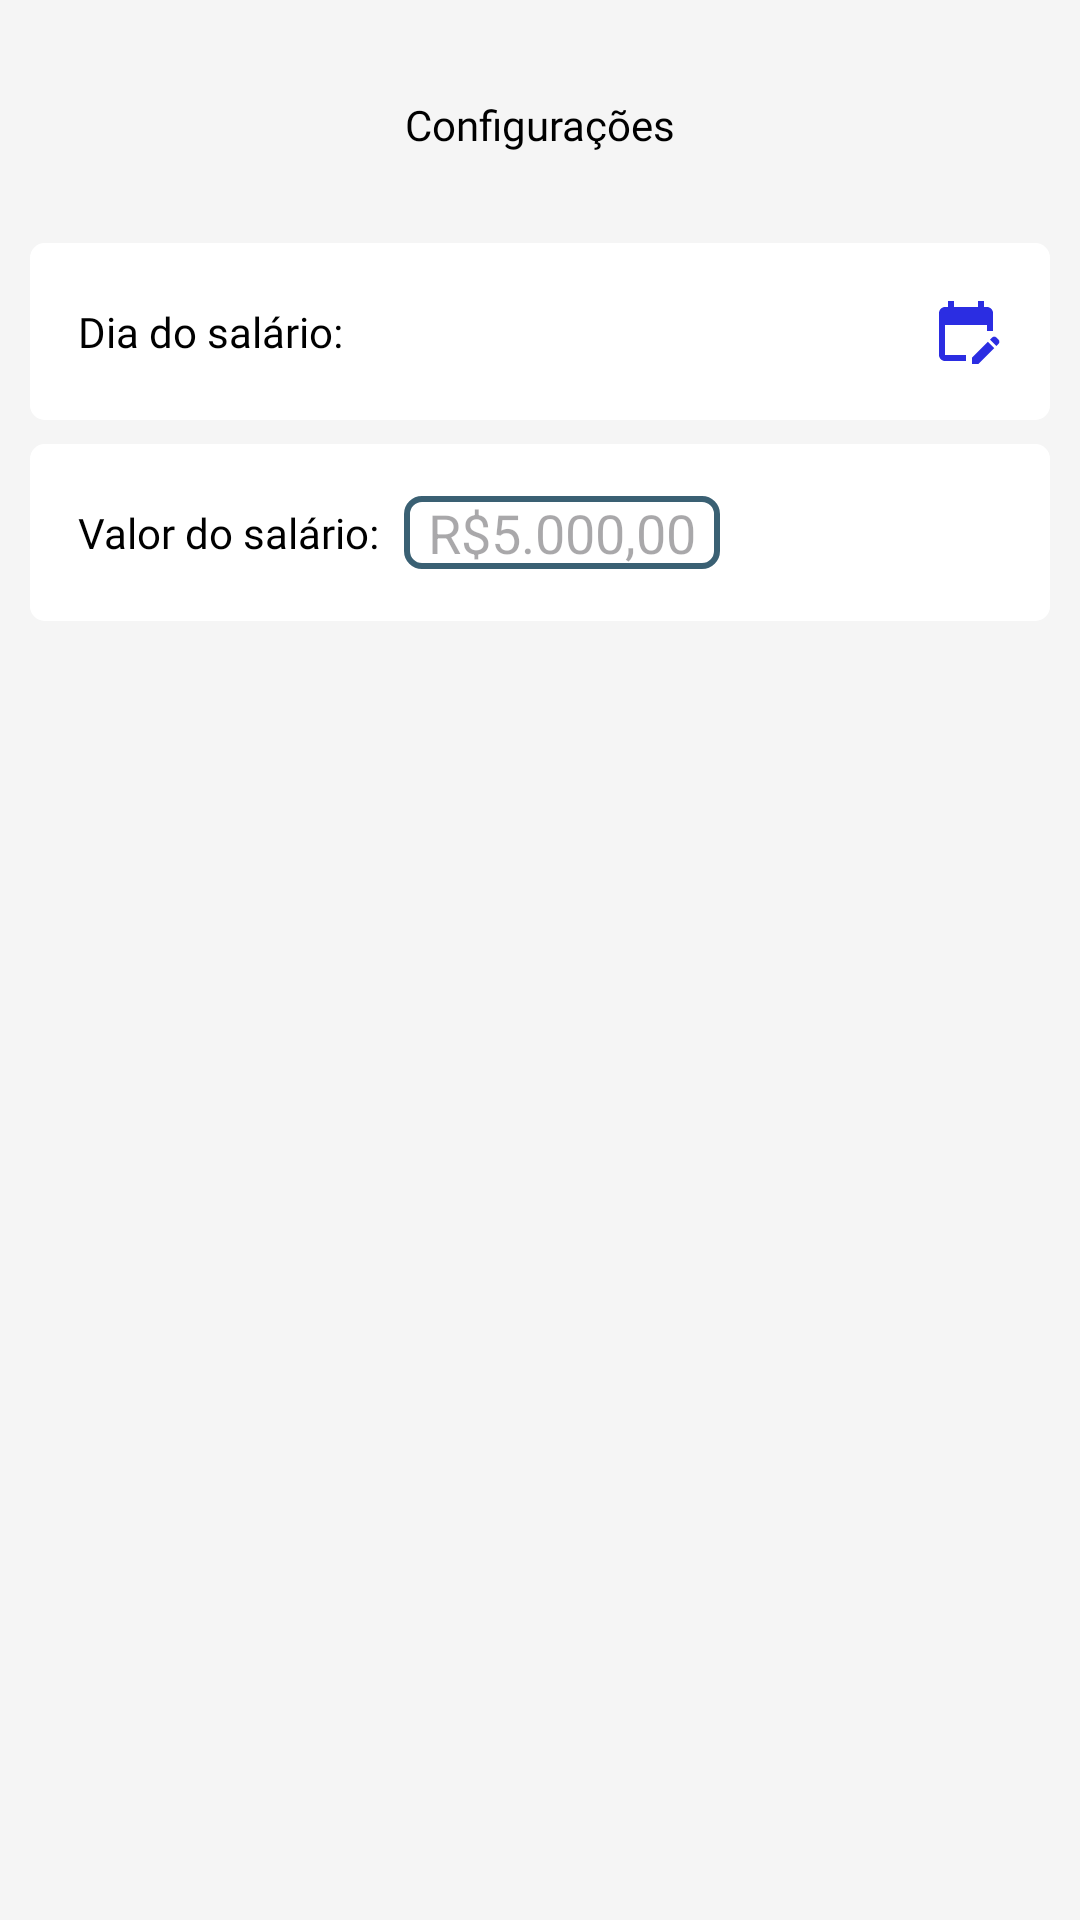

Named icons in this screenshot (1080x1920) and their centers, [x,y]:
edit calendar: [969,332]
